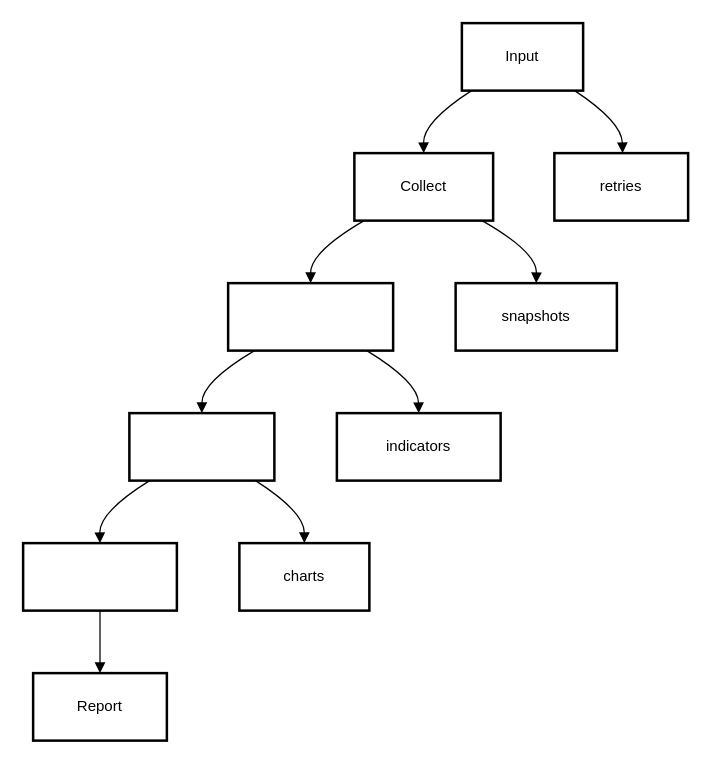
Some shapes in this 710 by 763 pixel diagram are drawn without their labels. The centre of each missing label's shape, as x and y in pixels:
Analyze: point 201,446
Normalize: point 310,316
Visualize: point 99,576
